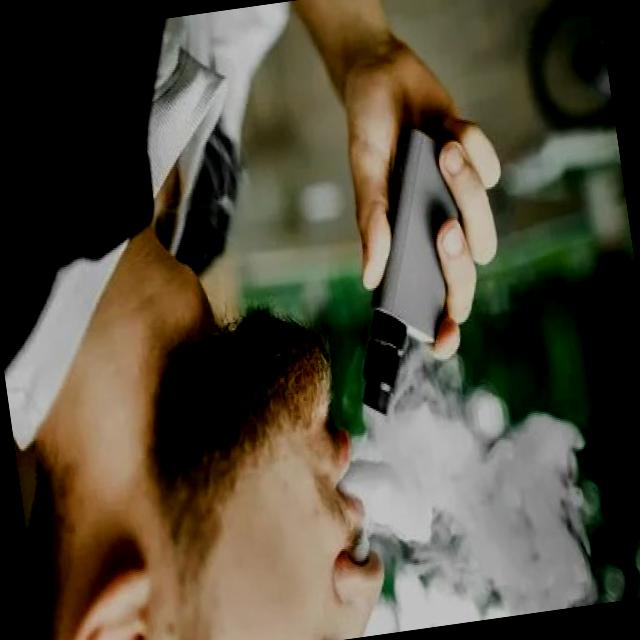cigarette: (318, 112, 499, 426)
